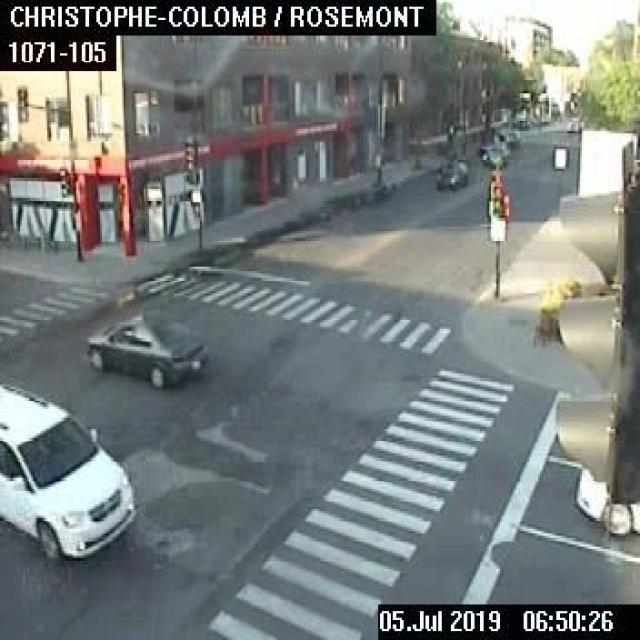vehicle: (0, 382, 135, 558), (84, 313, 205, 389), (575, 467, 638, 538), (434, 160, 466, 190), (481, 146, 507, 166), (565, 116, 580, 130)
